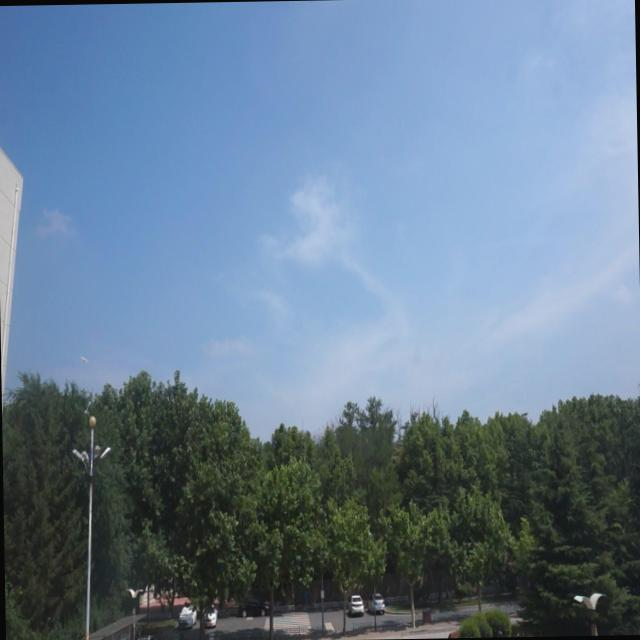drone: (78, 351, 90, 368)
